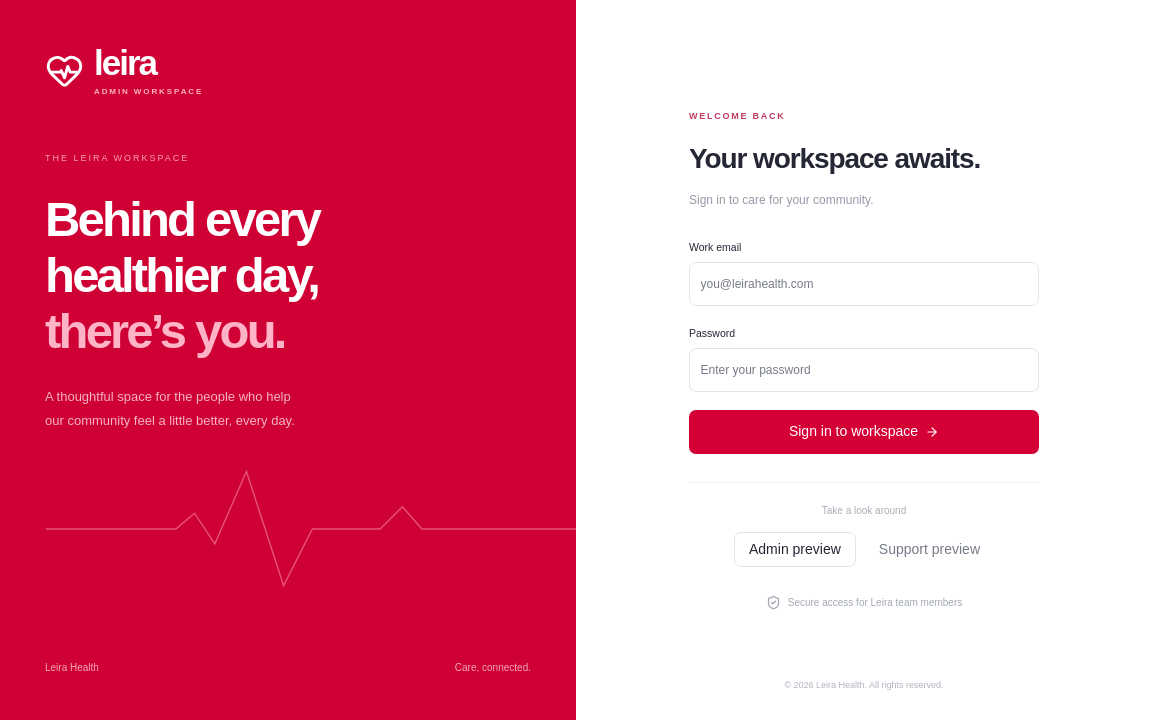
Test case: workspace workflows › limits support UI and keeps support edits separate from content publishing
Click the button "Support preview": (929, 549) top-left (865, 532), bottom-right (994, 567)
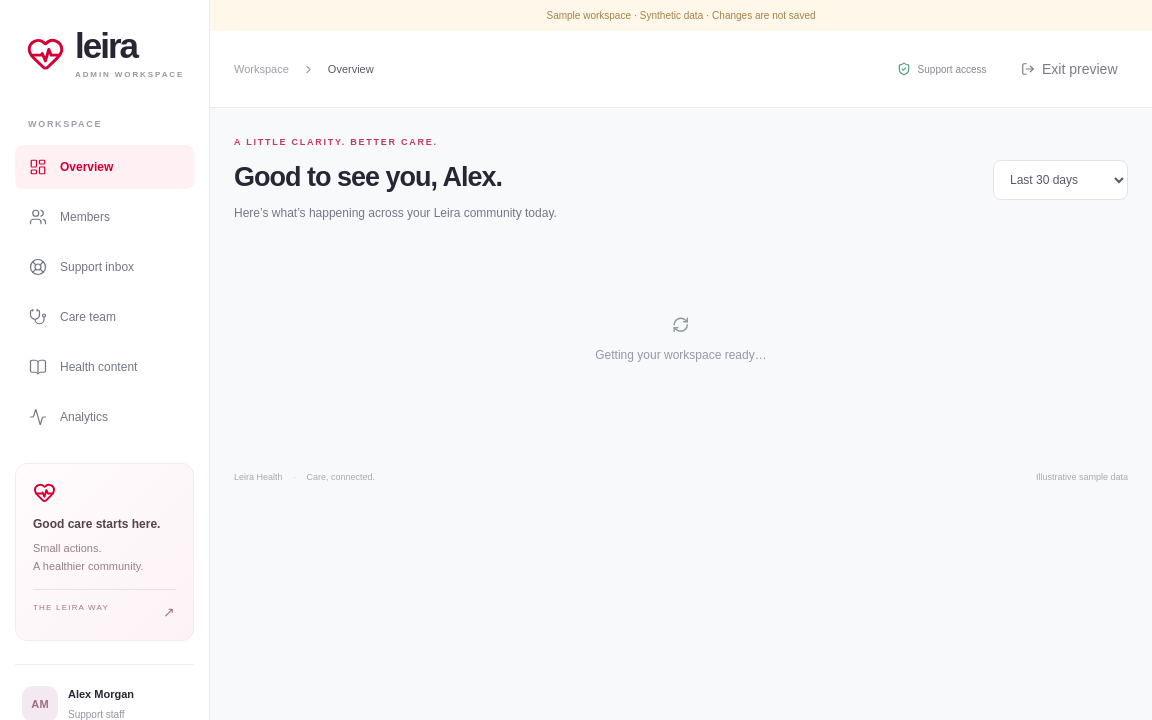
Expected: the link "Support inbox" is shown, top-left (29, 258), bottom-right (134, 276)
Click the link "Health content": (83, 366) top-left (29, 358), bottom-right (137, 376)
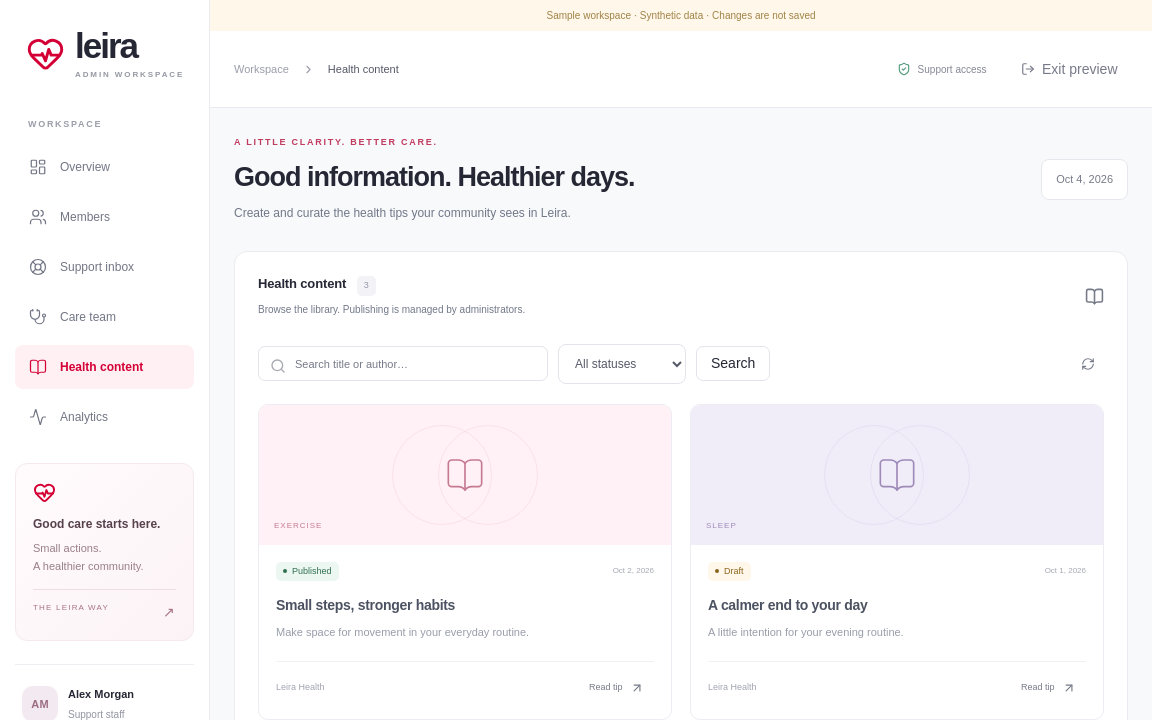
Expected: the heading "Small steps, stronger habits" is shown, top-left (276, 597), bottom-right (455, 613)
Click the button "Read tip" below "Small steps, stronger habits": (616, 688) top-left (578, 674), bottom-right (654, 702)
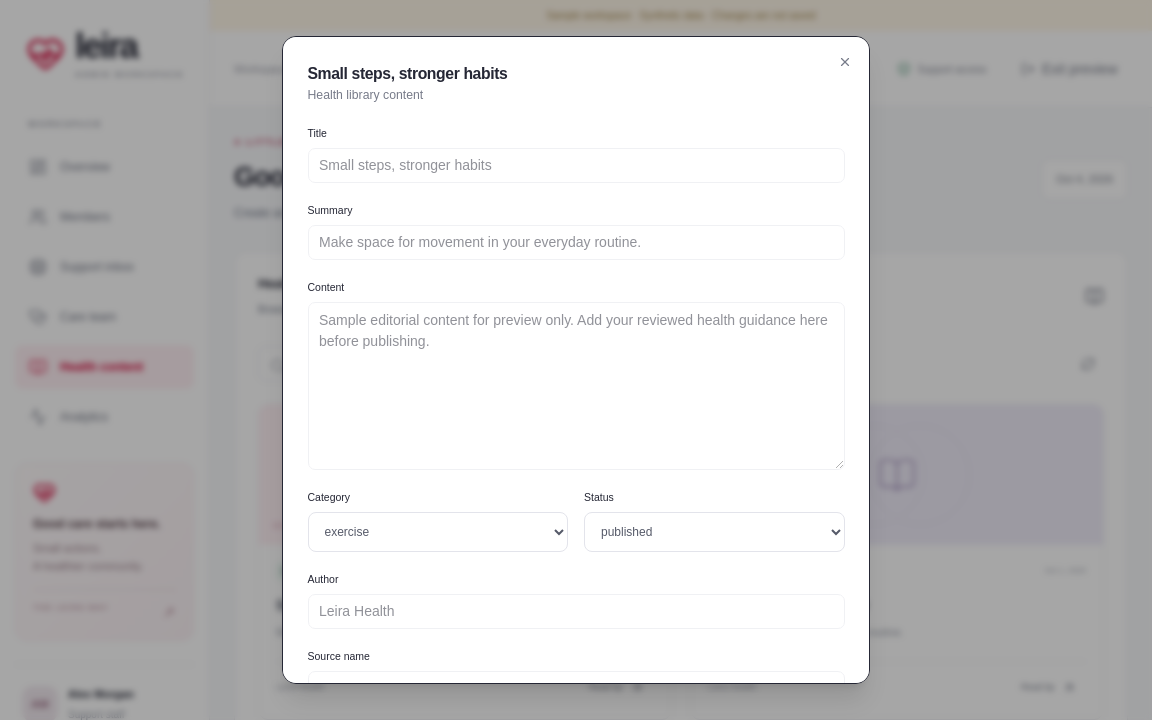
Expected: the field labelled "Title" is disabled, top-left (308, 148), bottom-right (844, 183)
